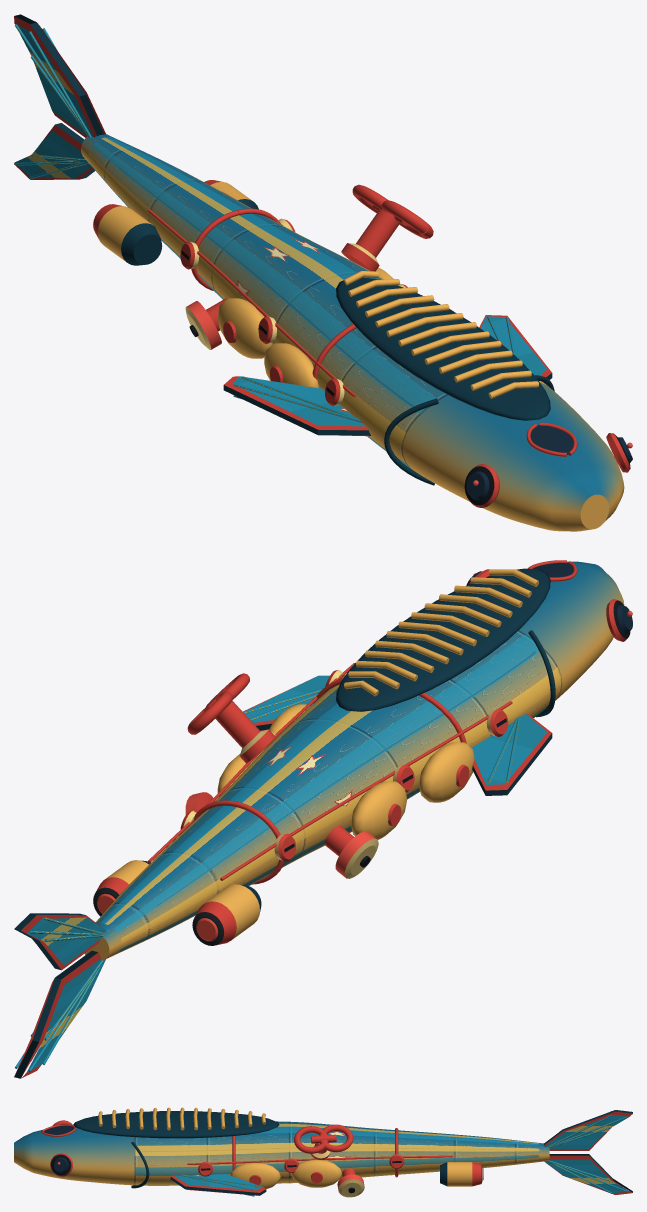
3 renders of one model, top to bottom at view 1: azimuth 30°, elevation 25°; view 2: azimuth 150°, elevation 25°; view 3: azimuth 270°, elevation 25°, orthographic. The views are drawn at different scales.
Visible parts, largest first — view 1: remora_hull; view 2: remora_hull; view 3: remora_hull.
Boxes of the visible parts, left/top/right/bottom form: remora_hull: left=14, top=14, right=632, bottom=531; remora_hull: left=14, top=560, right=632, bottom=1078; remora_hull: left=14, top=1107, right=632, bottom=1197.
Bounding box in the file's own units: 10.78 × 5.97 × 38.
1 material, 1 textured.
